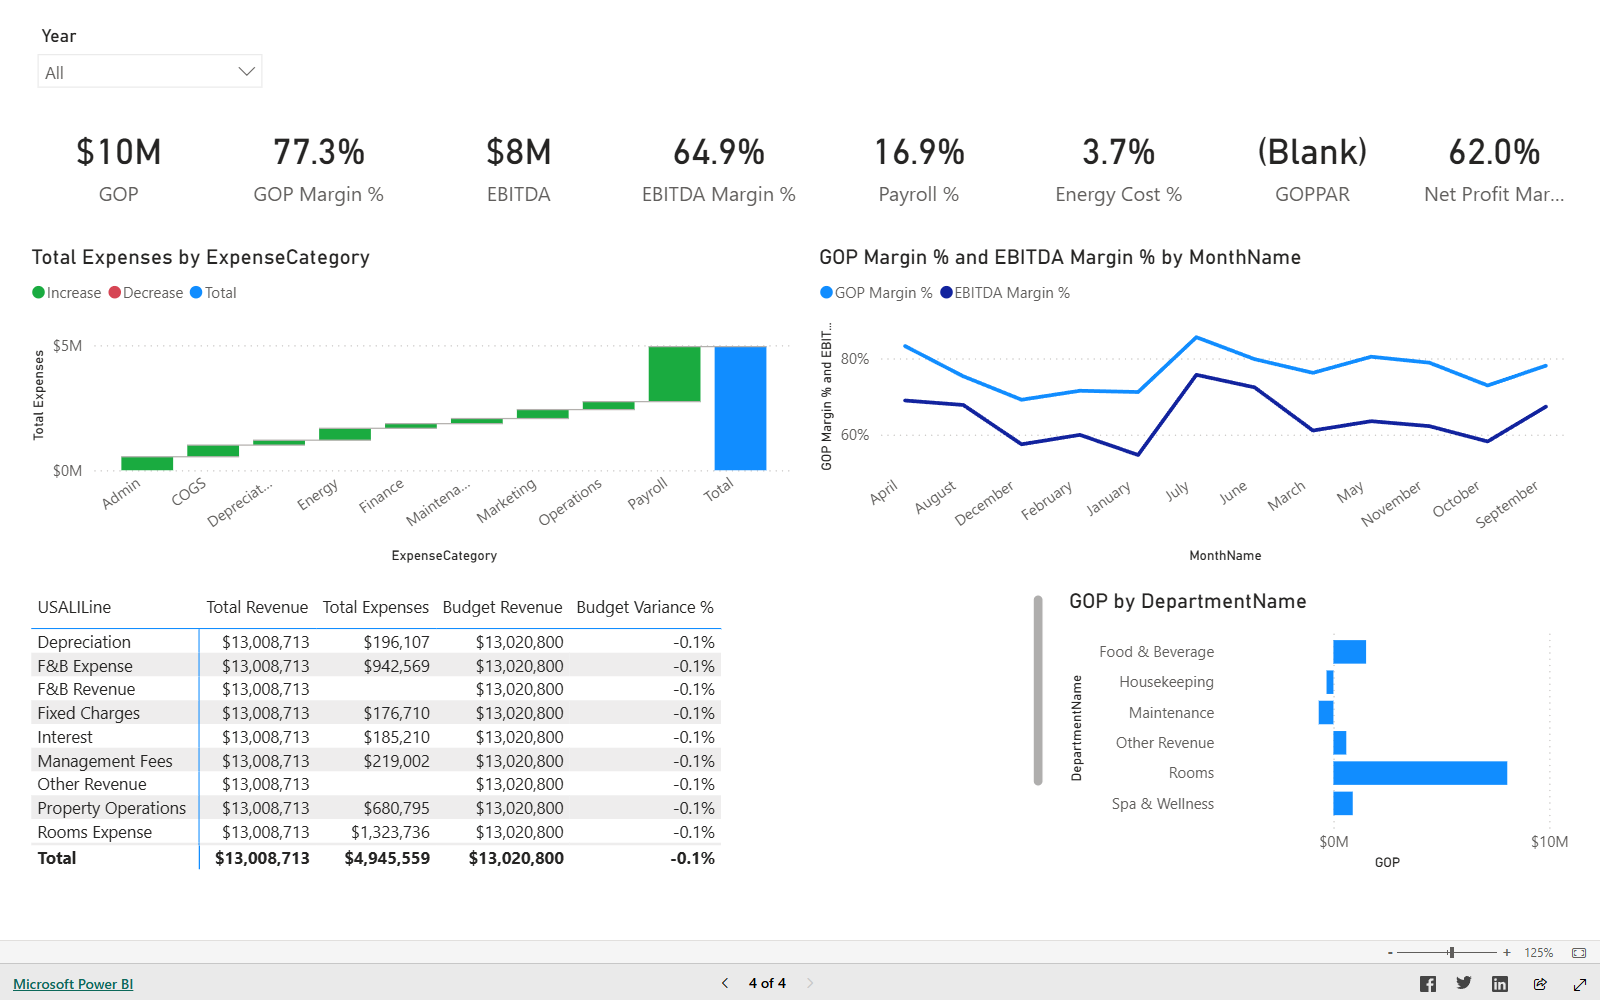

The dashboard page shown, as its layout file describes it:
{"tool":"powerbi","page":{"name":"Profitability & P&L","canvas":[1280,720],"ordinal":3},"visuals":[{"type":"card","fields":{"Values":["_Measures.GOP"]},"box":[20,80,150,100],"z":0},{"type":"card","fields":{"Values":["_Measures.GOP Margin %"]},"box":[180,80,150,100],"z":1},{"type":"card","fields":{"Values":["_Measures.EBITDA"]},"box":[340,80,150,100],"z":2},{"type":"card","fields":{"Values":["_Measures.EBITDA Margin %"]},"box":[500,80,150,100],"z":3},{"type":"card","fields":{"Values":["_Measures.Payroll %"]},"box":[660,80,150,100],"z":4},{"type":"card","fields":{"Values":["_Measures.Energy Cost %"]},"box":[820,80,150,100],"z":5},{"type":"card","fields":{"Values":["_Measures.GOPPAR"]},"box":[980,80,140,100],"z":6},{"type":"card","fields":{"Values":["_Measures.Net Profit Margin %"]},"box":[1130,80,130,100],"z":7},{"type":"waterfallChart","fields":{"Category":["Dim_Account.ExpenseCategory"],"Y":["_Measures.Total Expenses"]},"box":[20,195,620,260],"z":8},{"type":"lineChart","fields":{"Category":["Dim_Date.MonthName"],"Y":["_Measures.GOP Margin %","_Measures.EBITDA Margin %"]},"box":[650,195,610,260],"z":9},{"type":"pivotTable","fields":{"Rows":["Dim_Account.USALILine"],"Values":["_Measures.Total Revenue","_Measures.Total Expenses","_Measures.Budget Revenue","_Measures.Budget Variance %"]},"box":[20,470,820,230],"z":10},{"type":"barChart","fields":{"Category":["Dim_Department.DepartmentName"],"Y":["_Measures.GOP"]},"box":[850,470,410,230],"z":11},{"type":"slicer","fields":{"Values":["Dim_Date.Year"]},"box":[19.9,14.8,199.9,58],"z":12}]}

Visuals, with their boxes on the page's 1280x720 design canvas (x1, y1, x2, y2). These are canvas units, not pixel positions in the 1600x1000 screenshot, which may show the page scaled, cropped or inside an application window:
card - _Measures.GOP: x1=20 y1=80 x2=170 y2=180
card - _Measures.GOP Margin %: x1=180 y1=80 x2=330 y2=180
card - _Measures.EBITDA: x1=340 y1=80 x2=490 y2=180
card - _Measures.EBITDA Margin %: x1=500 y1=80 x2=650 y2=180
card - _Measures.Payroll %: x1=660 y1=80 x2=810 y2=180
card - _Measures.Energy Cost %: x1=820 y1=80 x2=970 y2=180
card - _Measures.GOPPAR: x1=980 y1=80 x2=1120 y2=180
card - _Measures.Net Profit Margin %: x1=1130 y1=80 x2=1260 y2=180
waterfallChart - Dim_Account.ExpenseCategory x _Measures.Total Expenses: x1=20 y1=195 x2=640 y2=455
lineChart - Dim_Date.MonthName x _Measures.GOP Margin %: x1=650 y1=195 x2=1260 y2=455
pivotTable - Dim_Account.USALILine x _Measures.Total Revenue: x1=20 y1=470 x2=840 y2=700
barChart - Dim_Department.DepartmentName x _Measures.GOP: x1=850 y1=470 x2=1260 y2=700
slicer - Dim_Date.Year: x1=20 y1=15 x2=220 y2=73
